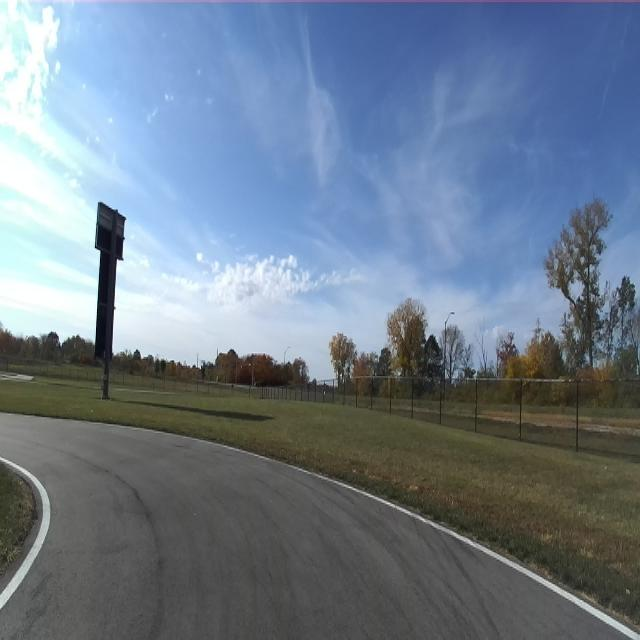white-line: (160, 432, 640, 639), (0, 457, 50, 610)
